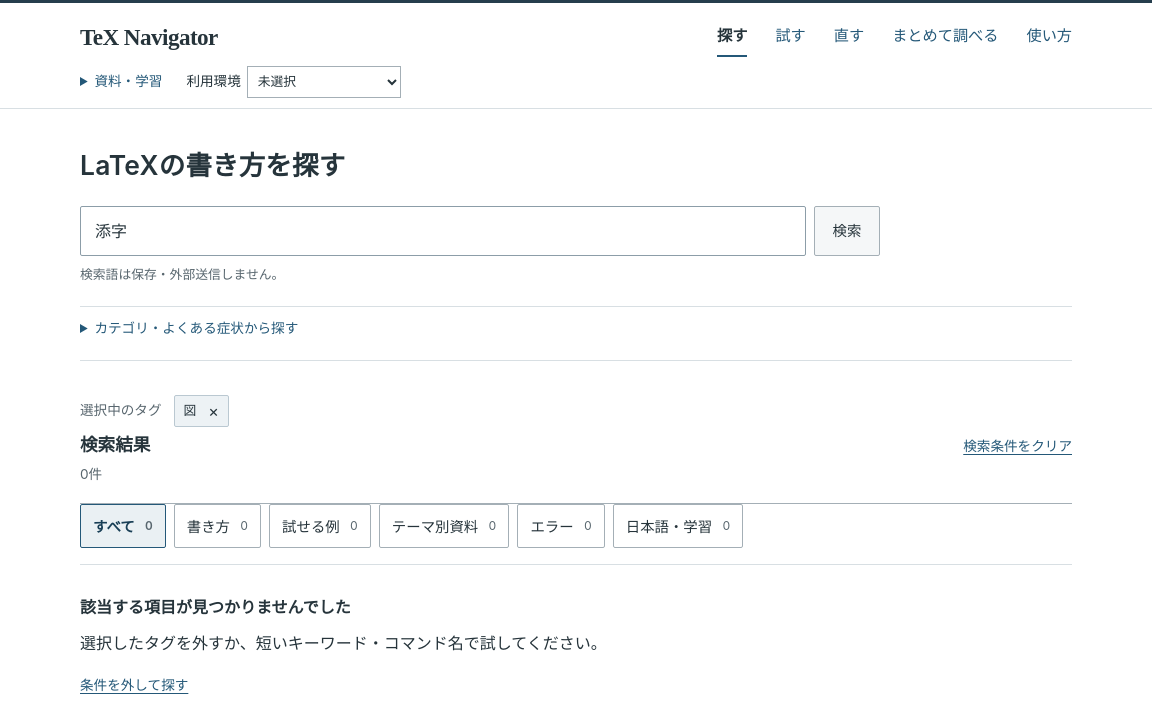
Scenario: 主要画面の操作 › 選択中のタグだけを解除し、検索語を保つ
Expected: the heading "該当する項目が見つかりませんでした" is shown, x1=80 y1=597 x2=351 y2=617
Step 1. Click the button named "図の絞り込みを解除" → [201, 411], box x1=174 y1=395 x2=229 y2=427
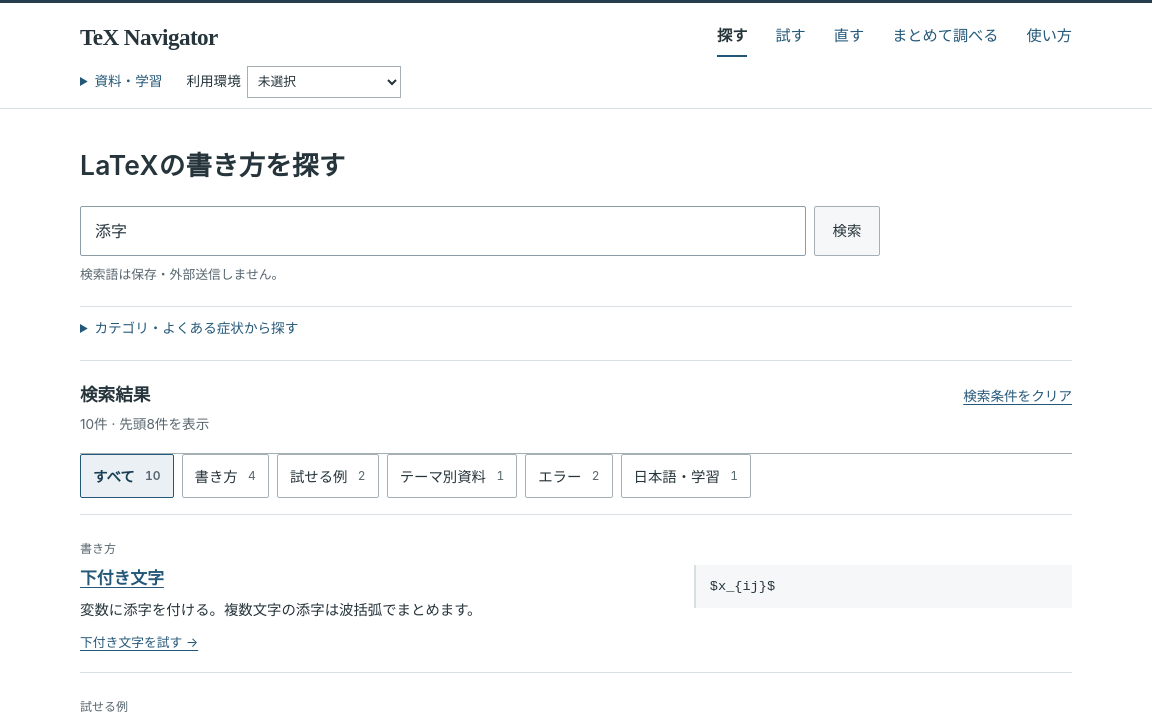
Expected: the search field holds "添字", x1=80 y1=206 x2=806 y2=256
Now the link "下付き文字" is shown, box x1=80 y1=568 x2=164 y2=588
